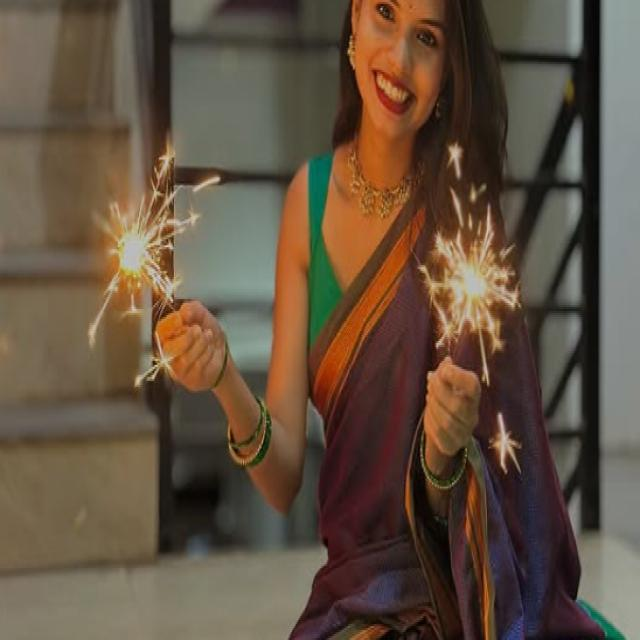fire: (120, 225, 152, 276)
